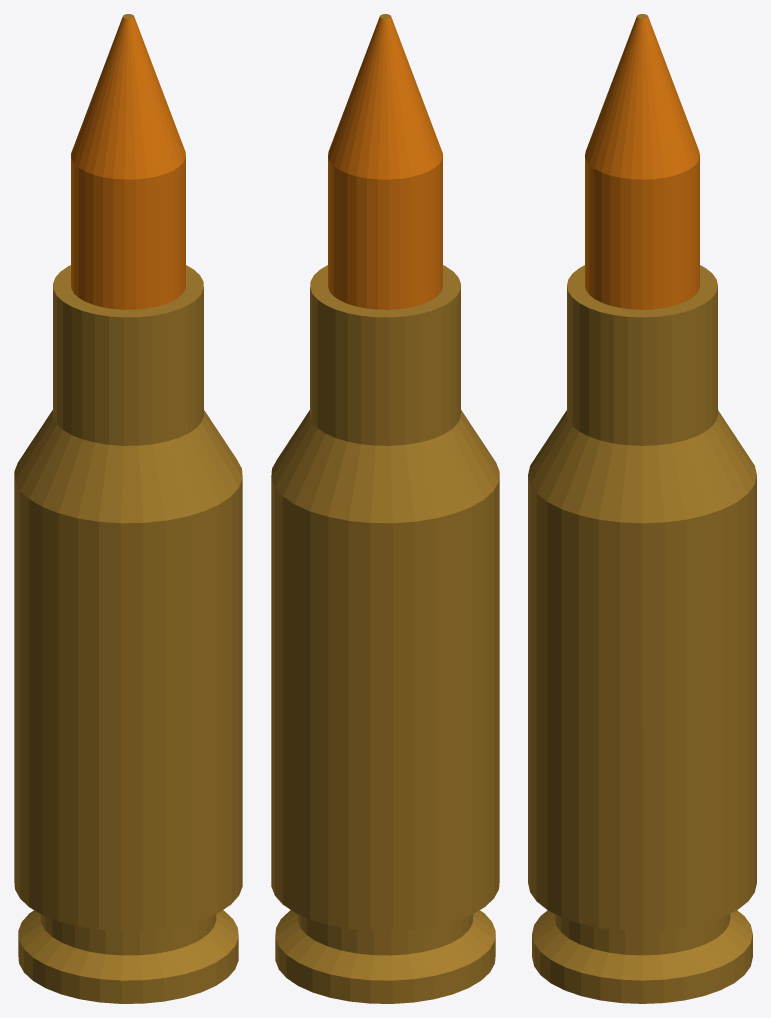
File: basicammo.fbx
3 views of the same model, side by side, from view 1: azimuth 30°, elevation 25°; view 2: azimuth 150°, elevation 25°; view 3: azimuth 270°, elevation 25° (orthographic).
Parts seen in each view (by area): view 1: 円柱; view 2: 円柱; view 3: 円柱.
Boxes of the visible parts, x1,y1,x2,y2 form: 円柱: (14, 14, 242, 1003); 円柱: (271, 14, 499, 1003); 円柱: (528, 14, 756, 1003).
Size of the model in its own units: 200 by 907 by 200.
